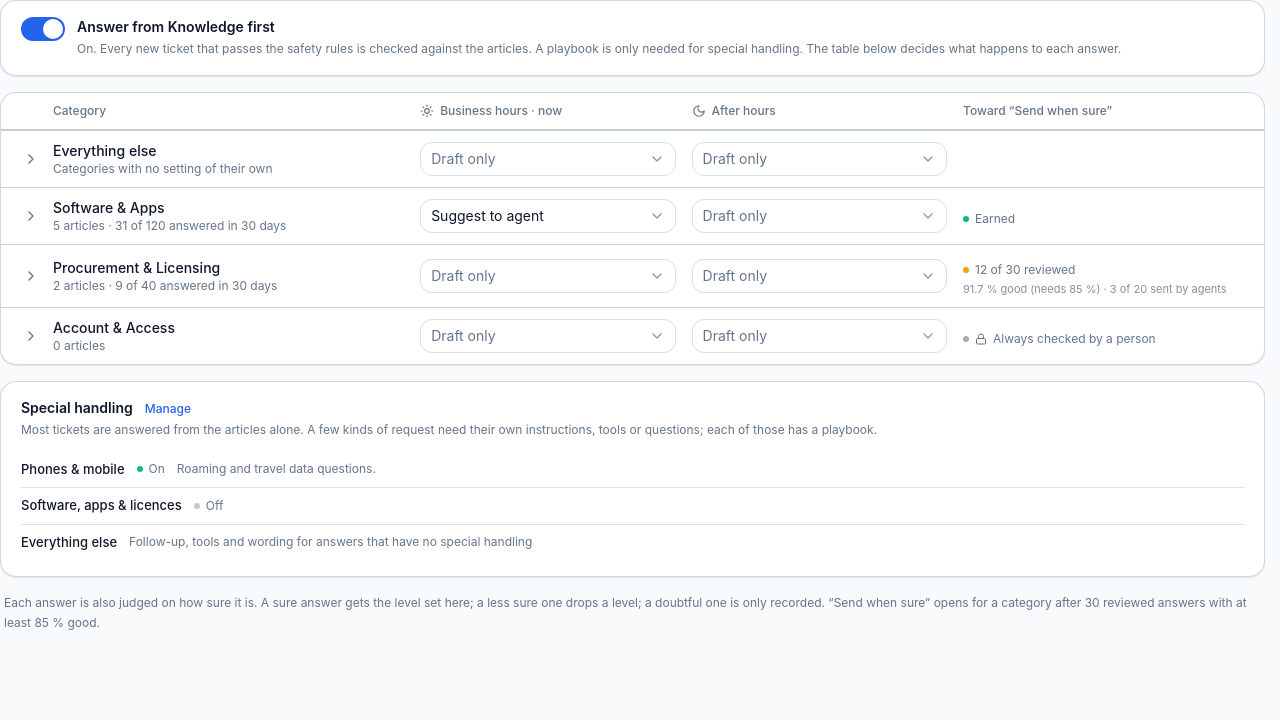
Test: AnsweringPanel › the order switch saves the workspace setting and says what each state means
Expected: the text "A playbook is only needed for special handling" is shown, [77,41,1121,56]
Click the switch named "Answer from Knowledge first" at (43, 29), box [21,17,65,41]
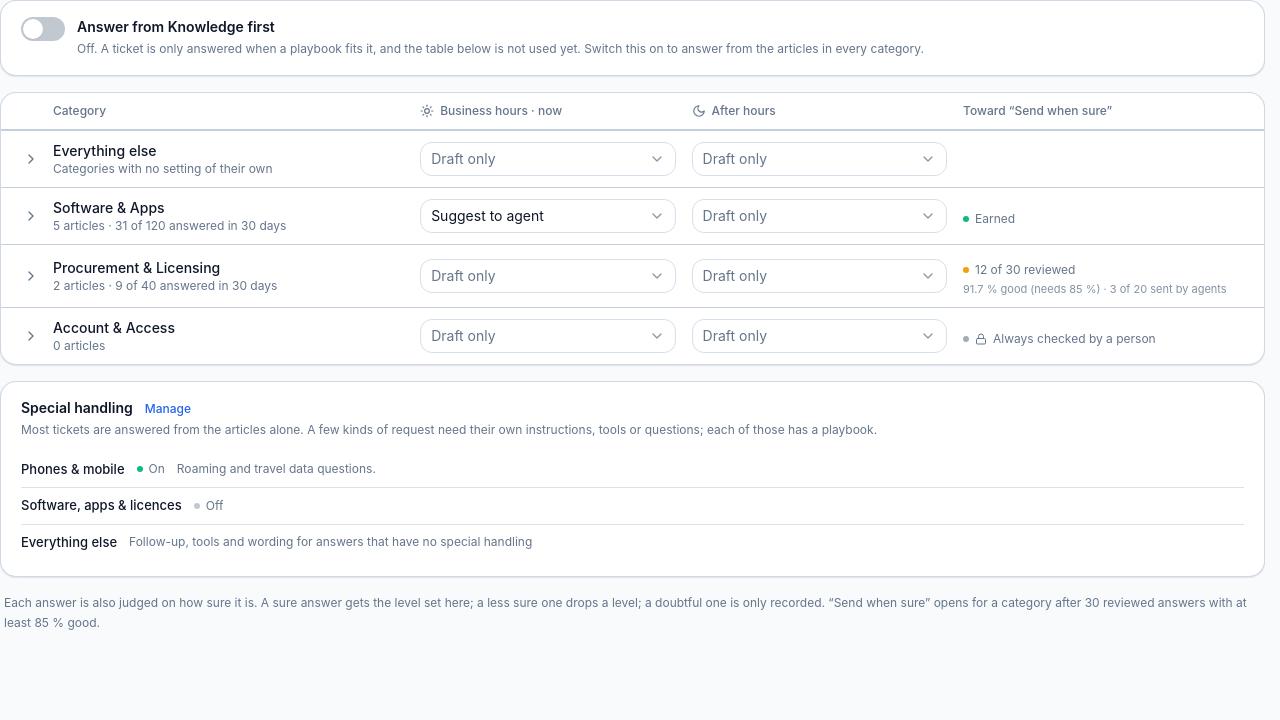
Result: the text "A ticket is only answered when a playbook fits it" is shown at [77,41,924,56]
